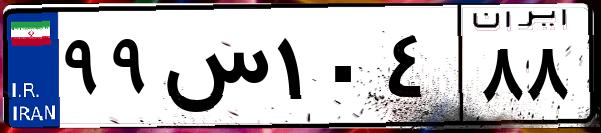0: (330, 28, 385, 110)
1: (270, 28, 330, 110)
4: (385, 28, 445, 110)
8: (475, 38, 525, 113), (525, 38, 570, 115)
9: (57, 26, 110, 100), (110, 28, 158, 98)
س: (158, 20, 270, 120)
